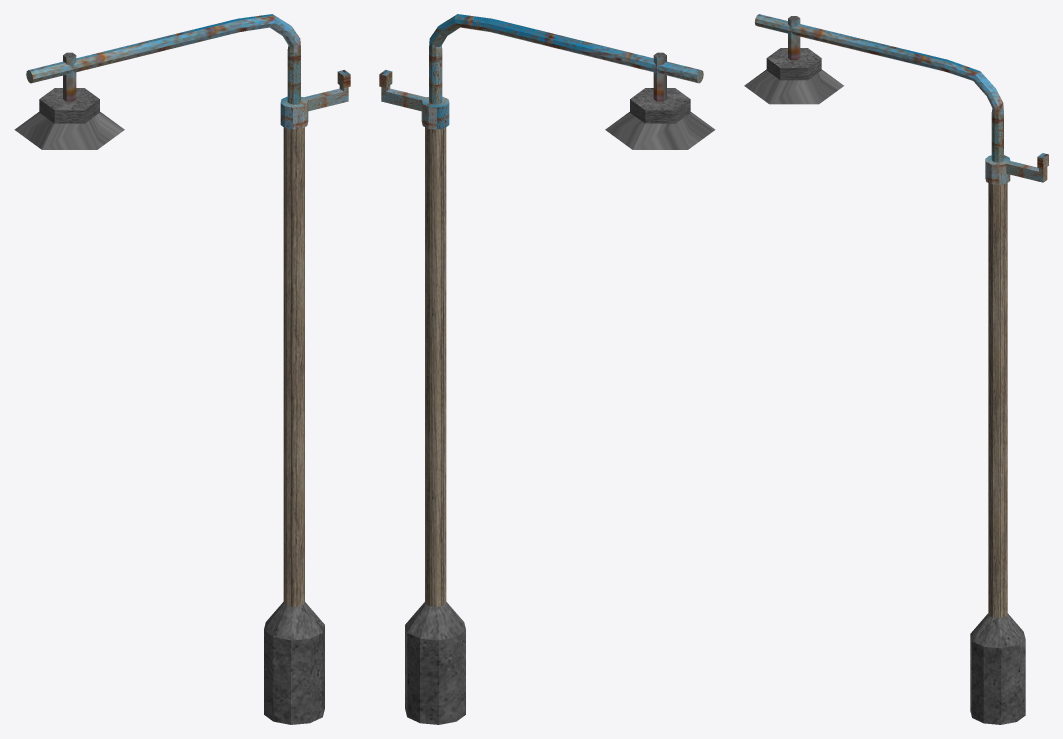
File: фонарь.fbx
3 renders of one model, left to right at view 1: azimuth 30°, elevation 25°; view 2: azimuth 150°, elevation 25°; view 3: azimuth 330°, elevation 25°, orthographic. The views are drawn at different scales.
Parts seen in each view (by area): view 1: Cylinder; view 2: Cylinder; view 3: Cylinder.
Part boxes in pixels (box(x1,y1,x2,y2)): Cylinder: box(14, 14, 350, 724); Cylinder: box(379, 14, 715, 724); Cylinder: box(744, 14, 1048, 724).
Size of the model in its own units: 597 by 1271 by 179.
Materials: 3 (3 with a texture image).
